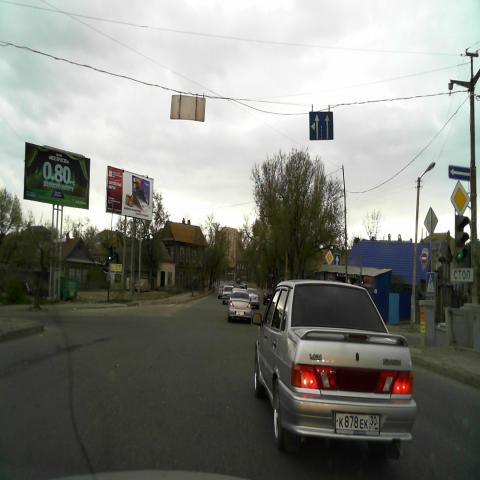5_7_2: (448, 164, 471, 179)
